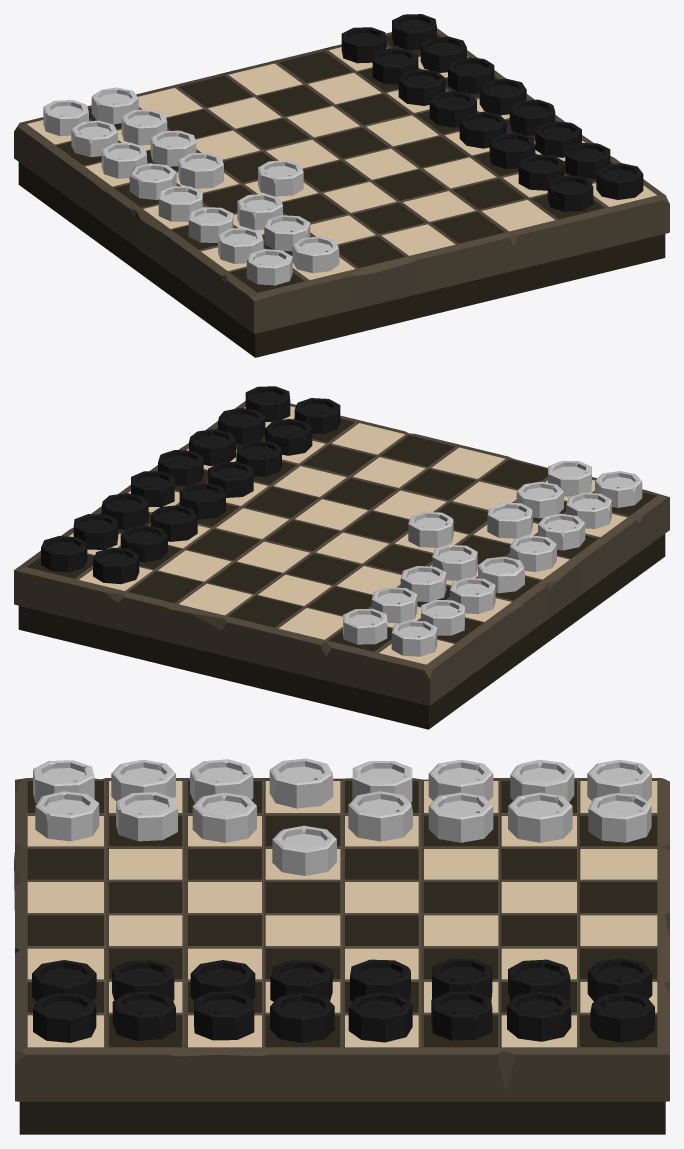
File: low_poly_checkers.glb
The picture shows the model from 3 angles, top to bottom: view 1: azimuth 30°, elevation 25°; view 2: azimuth 150°, elevation 25°; view 3: azimuth 270°, elevation 25°; orthographic projection. The views are drawn at different scales.
Parts seen in each view (by area): view 1: Cube_0, Cylinder_1, Cylinder.001_2, Cylinder.002_3, Cylinder.017_18, Cylinder.007_8, Cylinder.009_10, Cylinder.027_28, Cylinder.026_27, Cylinder.031_32, Cylinder.025_26, Cylinder.014_15 (+21 smaller); view 2: Cube_0, Cylinder.016_17, Cylinder.031_32, Cylinder.030_31, Cylinder.007_8, Cylinder.005_6, Cylinder.015_16, Cylinder.008_9, Cylinder.002_3, Cylinder.028_29, Cylinder.025_26, Cylinder.019_20 (+21 smaller); view 3: Cube_0, Cylinder.011_12, Cylinder.001_2, Cylinder.009_10, Cylinder.013_14, Cylinder.024_25, Cylinder.008_9, Cylinder.005_6, Cylinder.007_8, Cylinder.022_23, Cylinder.030_31, Cylinder.028_29 (+21 smaller).
Part boxes in pixels (x1=…): Cube_0: x1=14, y1=28, x2=669, y2=357; Cylinder_1: x1=596, y1=163, x2=643, y2=199; Cylinder.001_2: x1=292, y1=236, x2=339, y2=273; Cylinder.002_3: x1=246, y1=249, x2=292, y2=285; Cylinder.017_18: x1=547, y1=175, x2=593, y2=211; Cylinder.007_8: x1=258, y1=160, x2=303, y2=196; Cylinder.009_10: x1=178, y1=152, x2=223, y2=188; Cylinder.027_28: x1=398, y1=69, x2=445, y2=105; Cylinder.026_27: x1=448, y1=57, x2=494, y2=93; Cylinder.031_32: x1=341, y1=27, x2=386, y2=63; Cylinder.025_26: x1=429, y1=90, x2=476, y2=127; Cylinder.014_15: x1=71, y1=120, x2=117, y2=156; Cube_0: x1=14, y1=401, x2=669, y2=729; Cylinder.016_17: x1=391, y1=620, x2=437, y2=656; Cylinder.031_32: x1=93, y1=547, x2=139, y2=584; Cylinder.030_31: x1=41, y1=536, x2=87, y2=572; Cylinder.007_8: x1=408, y1=511, x2=453, y2=547; Cylinder.005_6: x1=487, y1=502, x2=532, y2=538; Cylinder.015_16: x1=343, y1=608, x2=387, y2=644; Cylinder.008_9: x1=510, y1=535, x2=556, y2=571; Cylinder.002_3: x1=595, y1=471, x2=642, y2=507; Cylinder.028_29: x1=73, y1=514, x2=118, y2=549; Cylinder.025_26: x1=179, y1=483, x2=225, y2=519; Cylinder.019_20: x1=265, y1=419, x2=312, y2=455; Cube_0: x1=14, y1=778, x2=669, y2=1134; Cylinder.011_12: x1=428, y1=792, x2=493, y2=842; Cylinder.001_2: x1=35, y1=791, x2=99, y2=841; Cylinder.009_10: x1=348, y1=791, x2=412, y2=841; Cylinder.013_14: x1=508, y1=792, x2=572, y2=842; Cylinder.024_25: x1=348, y1=992, x2=412, y2=1042; Cylinder.008_9: x1=269, y1=758, x2=333, y2=808; Cylinder.005_6: x1=192, y1=792, x2=256, y2=842; Cylinder.007_8: x1=272, y1=825, x2=336, y2=875; Cylinder.022_23: x1=270, y1=992, x2=334, y2=1042; Cylinder.030_31: x1=590, y1=992, x2=654, y2=1042; Cylinder.028_29: x1=507, y1=991, x2=571, y2=1041.
Size of the model in its own units: 0.3124 by 0.058 by 0.3126.
3 materials, 1 textured.
